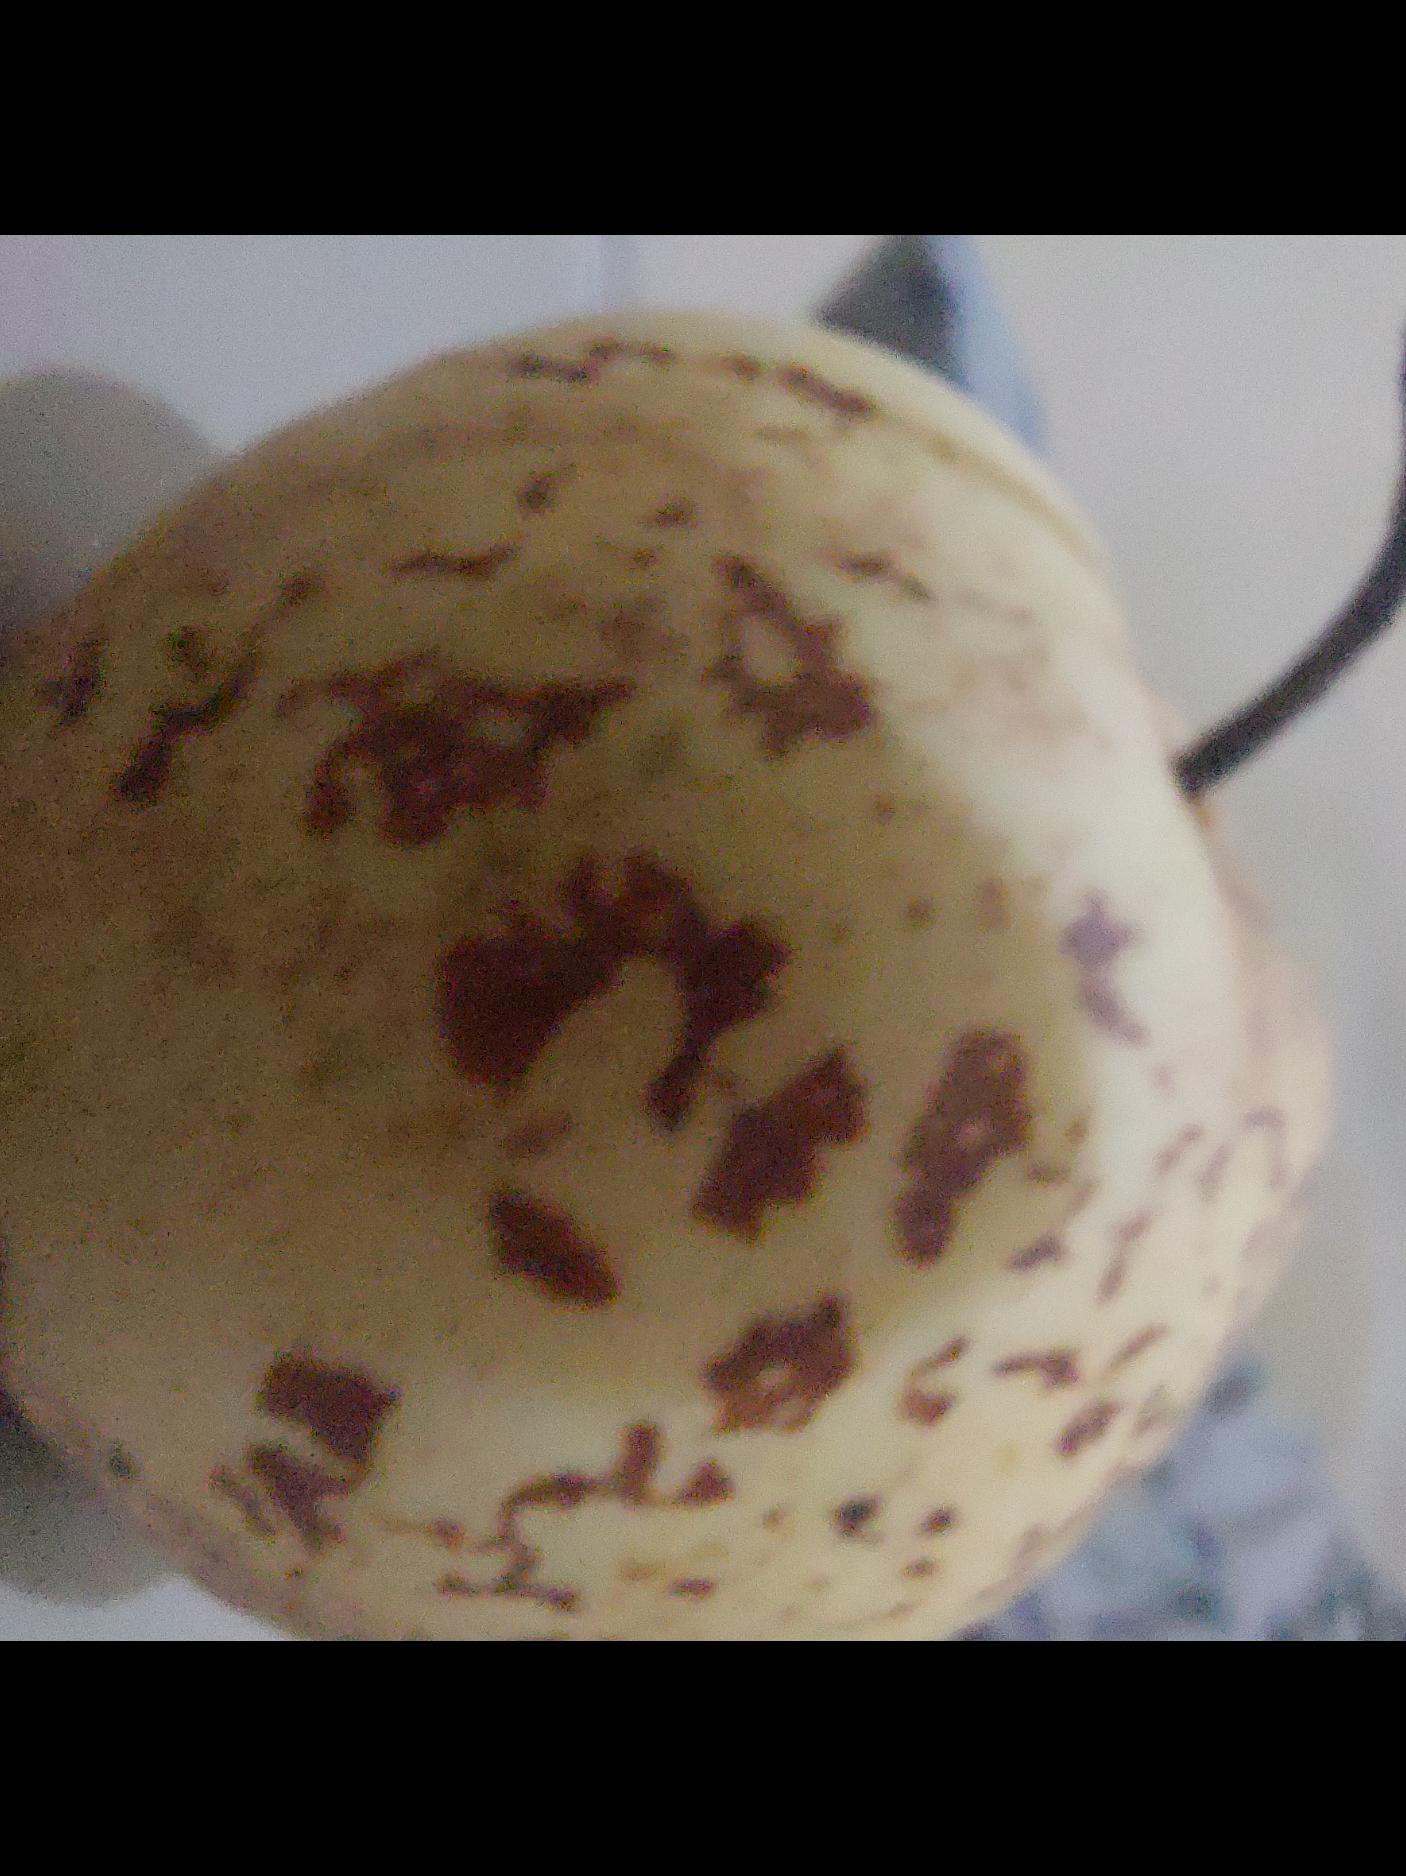Bad Pear: (0, 278, 1406, 1641)
